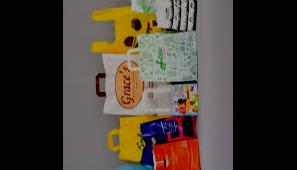Plastic: (96, 50, 170, 116), (130, 30, 200, 82), (112, 114, 182, 162), (92, 5, 160, 52), (140, 114, 203, 164), (144, 80, 204, 116), (149, 135, 207, 169), (155, 0, 198, 32), (124, 0, 201, 15)
